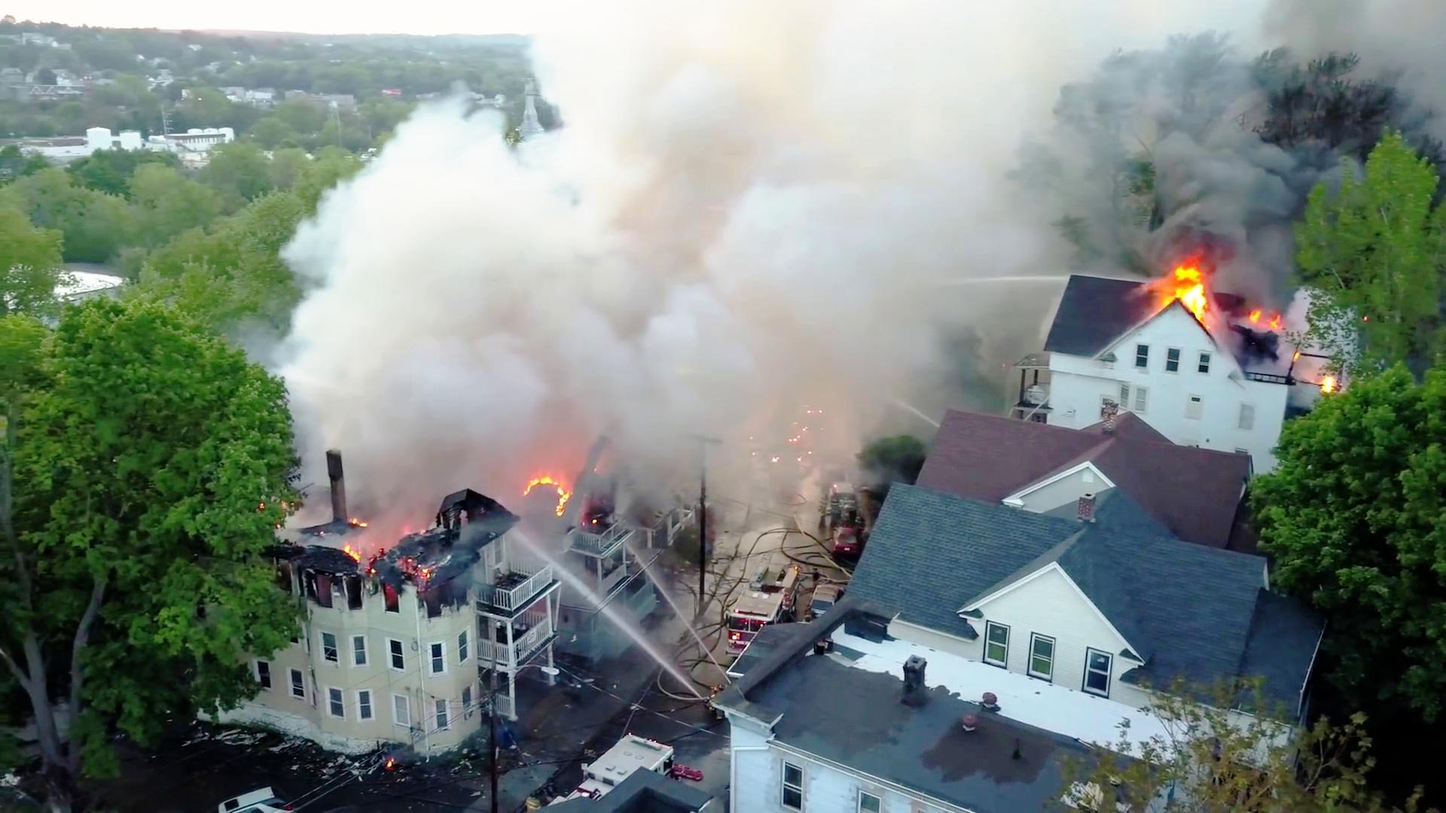fire: (1149, 258, 1221, 327)
smoke: (418, 117, 874, 384)
